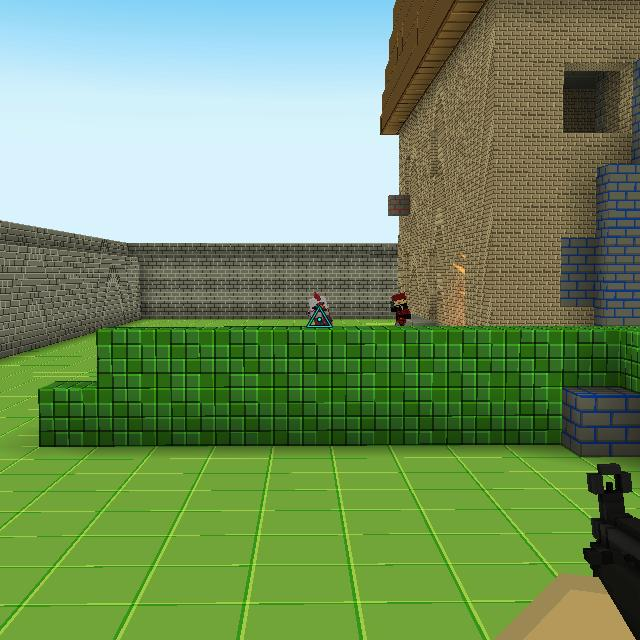enemy: (307, 293, 333, 326), (390, 290, 410, 325)
